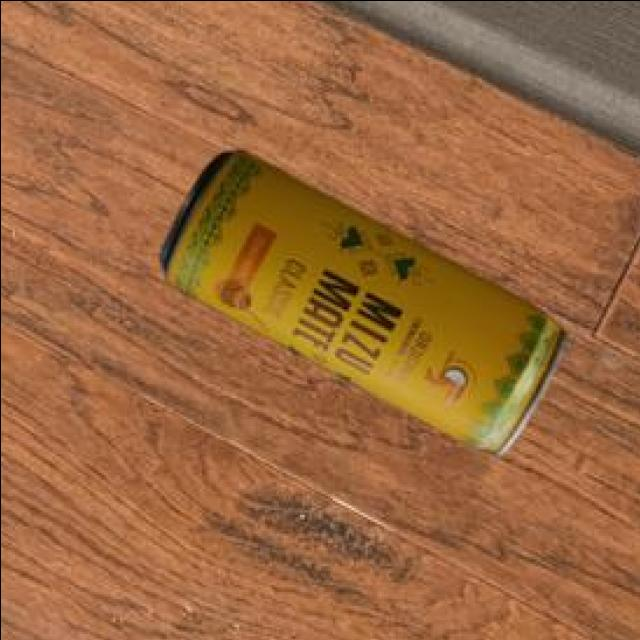logam: (155, 146, 562, 452)
